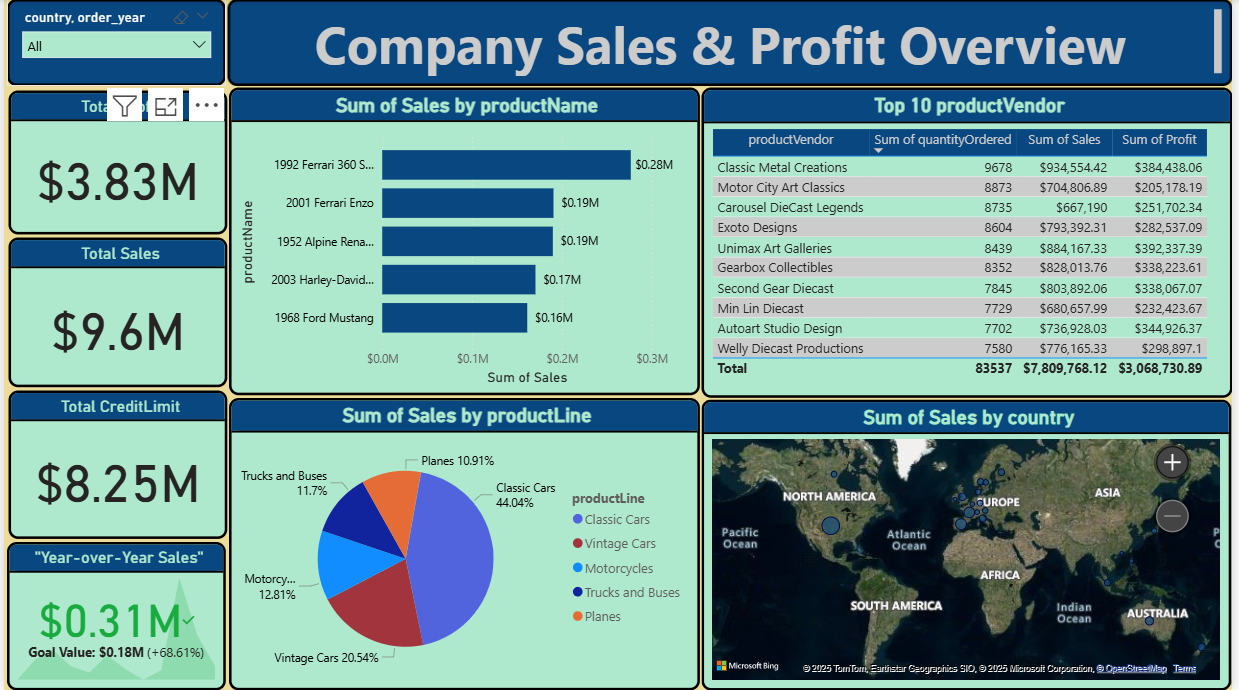

The page's visual inventory and layout, read from the dashboard file:
{"tool":"powerbi","page":{"name":"Page 1","canvas":[1280,720],"ordinal":0},"visuals":[{"type":"barChart","fields":{"Category":["products.productName"],"Y":["Sum(order details.Sales)"]},"box":[234.4,92.2,490.8,320.4],"z":0},{"type":"pieChart","fields":{"Category":["products.productLine"],"Y":["Sum(order details.Sales)"]},"box":[234.4,415.8,490.8,304.8],"z":1000},{"type":"card","title":"Total Profit","fields":{"Values":["Sum(order details.Profit)"]},"box":[4.7,95.3,228.2,150],"z":2000},{"type":"card","title":"Total Sales","fields":{"Values":["Sum(order details.Sales)"]},"box":[4.7,248.5,228.2,156.3],"z":3000},{"type":"card","title":"Total CreditLimit","fields":{"Values":["Sum(customers.creditLimit)"]},"box":[4.7,407.9,228.2,154.7],"z":4000},{"type":"tableEx","title":"Top   10    productVendor","fields":{"Values":["products.productVendor","Sum(order details.quantityOrdered)","Sum(order details.Sales)","Sum(order details.Profit)"]},"box":[726.8,92.2,553.3,323.5],"z":5000},{"type":"textbox","box":[232.9,0,1047.2,90.7],"z":6000},{"type":"slicer","fields":{"Values":["customers.country","orders.order_year"]},"box":[3.1,0,228.2,90.7],"z":7000},{"type":"map","fields":{"Size":["Sum(order details.Sales)"],"Category":["customers.country"]},"box":[726.8,417.3,551.7,303.2],"z":8000},{"type":"kpi","title":"\"Year-over-Year Sales\"","fields":{"Indicator":["orders.Sales_2004"],"Goal":["orders.Sales_2003"],"TrendLine":["orders.Month Name"]},"box":[3.1,565.8,228.2,154.7],"z":9000}]}

Visuals, with their boxes in screenshot pixels (x1, y1, x2, y2), scaled from the page's 1280x720 canvas onto the 1239x690 screenshot:
barChart - products.productName x Sum(order details.Sales): {"left": 227, "top": 88, "right": 702, "bottom": 395}
pieChart - products.productLine x Sum(order details.Sales): {"left": 227, "top": 398, "right": 702, "bottom": 689}
"Total Profit" card: {"left": 5, "top": 91, "right": 225, "bottom": 235}
"Total Sales" card: {"left": 5, "top": 238, "right": 225, "bottom": 388}
"Total CreditLimit" card: {"left": 5, "top": 391, "right": 225, "bottom": 539}
"Top   10    productVendor" tableEx: {"left": 704, "top": 88, "right": 1238, "bottom": 398}
textbox: {"left": 225, "top": 0, "right": 1238, "bottom": 87}
slicer - customers.country x orders.order_year: {"left": 3, "top": 0, "right": 224, "bottom": 87}
map - Sum(order details.Sales) x customers.country: {"left": 704, "top": 400, "right": 1238, "bottom": 689}
""Year-over-Year Sales"" kpi: {"left": 3, "top": 542, "right": 224, "bottom": 689}
